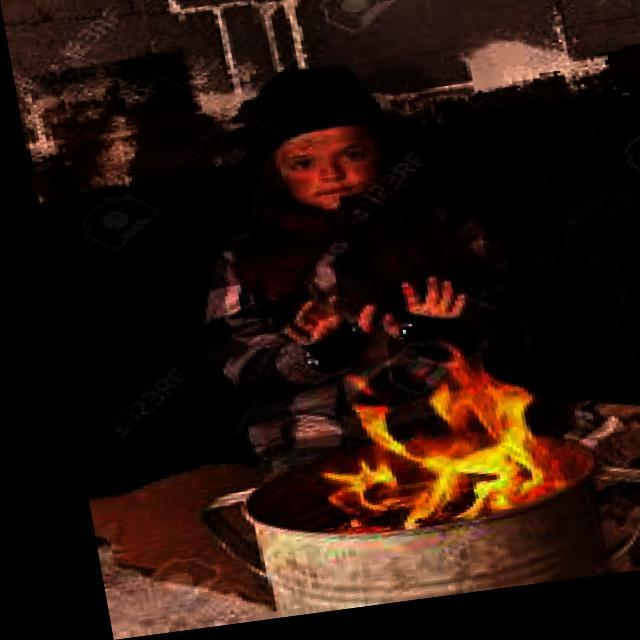Fire: (222, 330, 594, 552)
